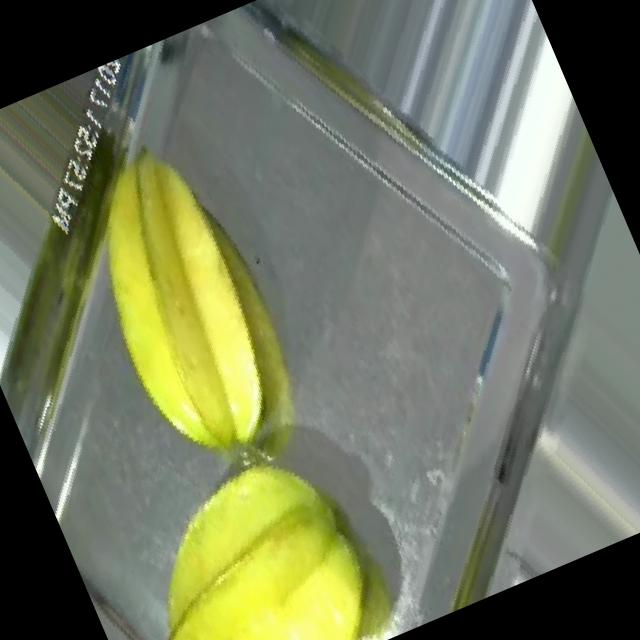fruit: (1, 83, 392, 522), (63, 387, 437, 640)
